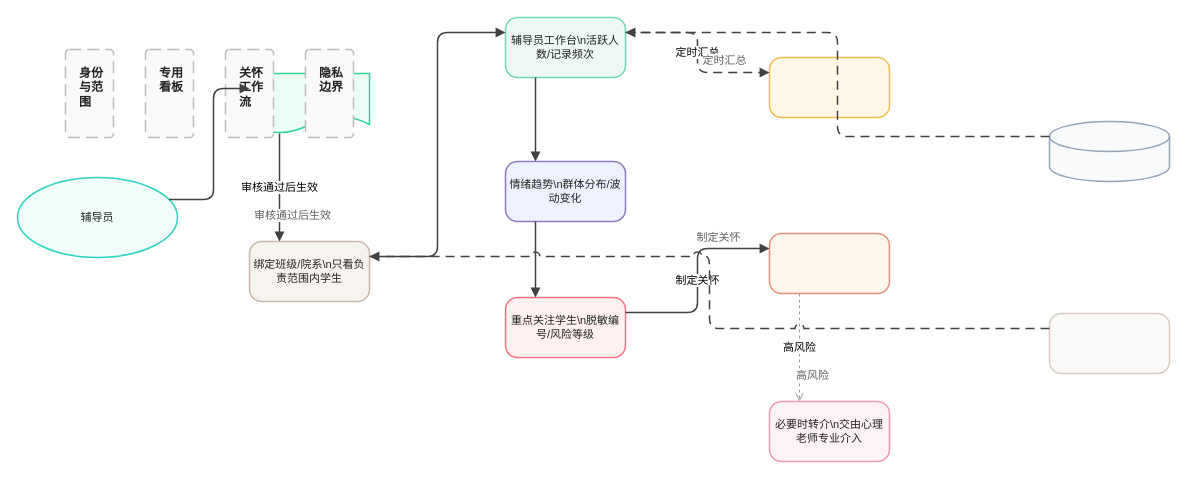
This 1199x480 diagram has some shape labels left out. Here are the shapes that lost their labels. From the top down, the centre of each, then its label:
At (309,103): "角色认证申请\n工号/院系/负责范围".
At (829,87): "每周摘要推送\n自动邮件报告".
At (1109,151): "脱敏聚合数据\n不展示原始日记正文".
At (829,263): "日常关怀建议\n班级层面的支持策略".
At (1109,343): "权限校验\n仅 counselor/psychologist/admin".
